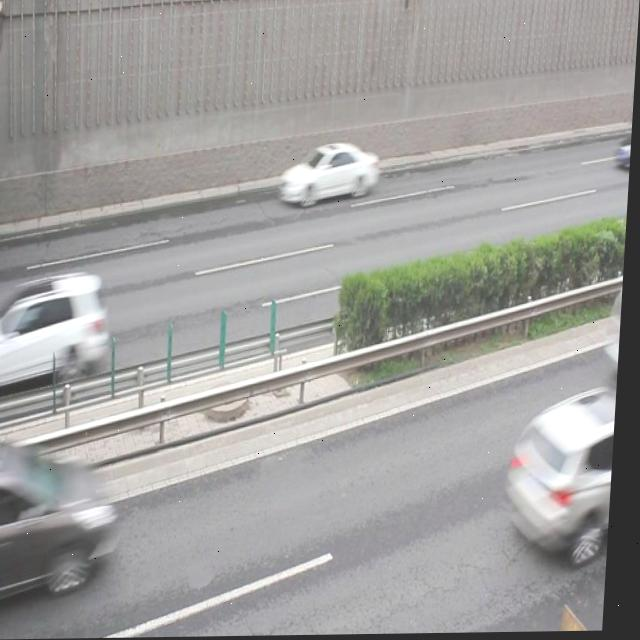car: (506, 393, 621, 562), (0, 270, 115, 398), (280, 139, 382, 207), (614, 118, 634, 174)
truck: (0, 439, 123, 616)
